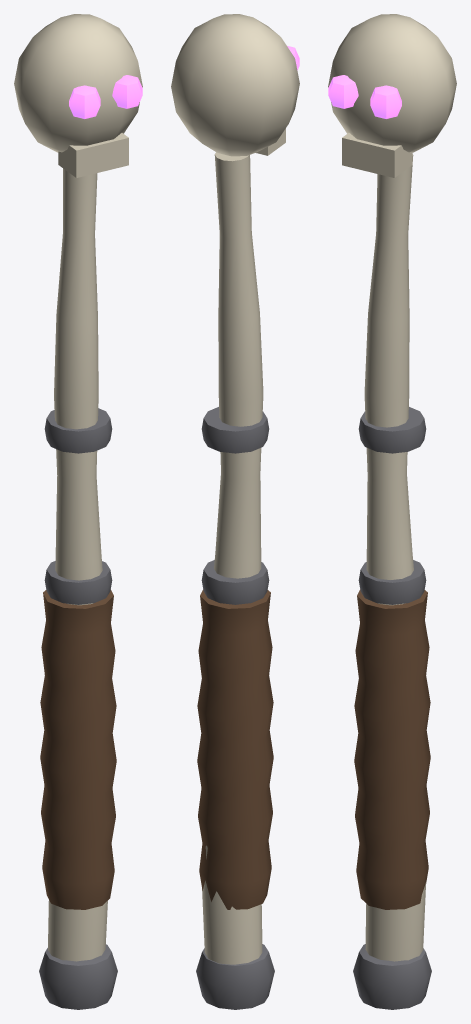
File: bone_wand.glb
The picture shows the model from 3 angles, left to right: view 1: azimuth 30°, elevation 25°; view 2: azimuth 150°, elevation 25°; view 3: azimuth 330°, elevation 25°; orthographic projection.
Visible parts, largest first — view 1: bone_wand; view 2: bone_wand; view 3: bone_wand.
Boxes of the visible parts, x1,y1,x2,y2 form: bone_wand: [14, 14, 142, 1009]; bone_wand: [171, 14, 299, 1009]; bone_wand: [328, 14, 456, 1009].
Bounding box in the file's own units: 0.044 × 0.3592 × 0.042.
